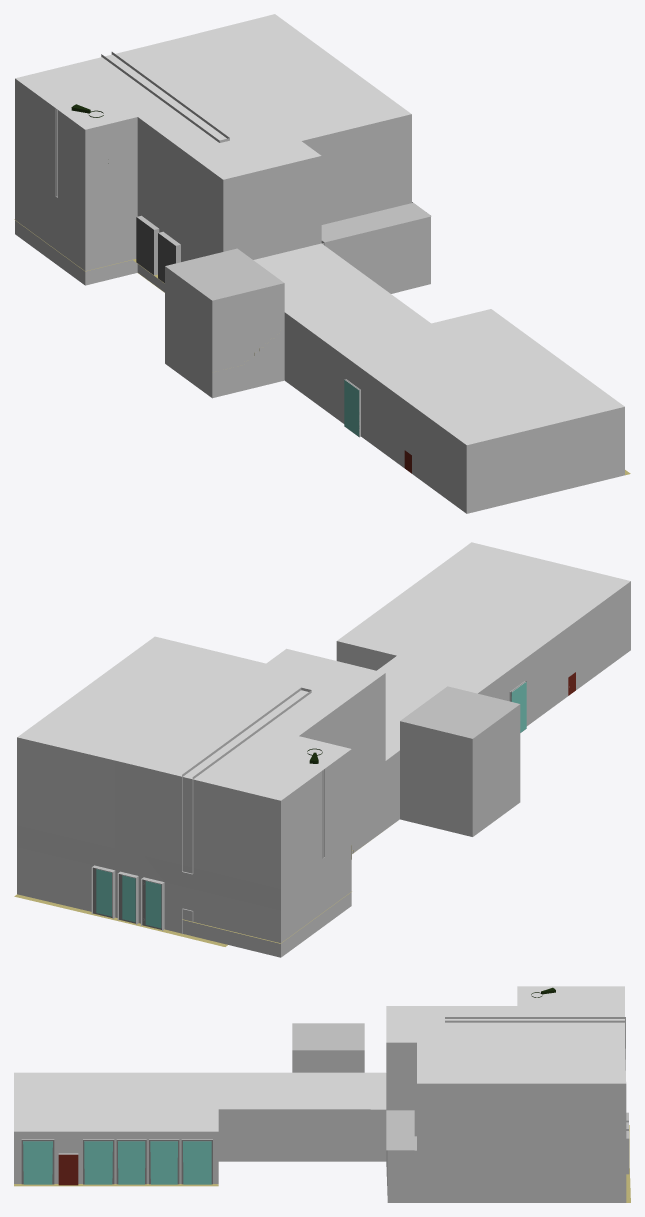
File: primer piso.fbx
3 renders of one model, top to bottom at view 1: azimuth 30°, elevation 25°; view 2: azimuth 150°, elevation 25°; view 3: azimuth 270°, elevation 25°, orthographic. The views are drawn at different scales.
Parts seen in each view (by area): view 1: paredes; view 2: paredes; view 3: paredes.
Boxes of the visible parts, x1=… form: paredes: x1=14, y1=14, x2=630, y2=513; paredes: x1=14, y1=542, x2=630, y2=957; paredes: x1=14, y1=986, x2=630, y2=1202.
Size of the model in its own units: 184 by 101 by 457.
